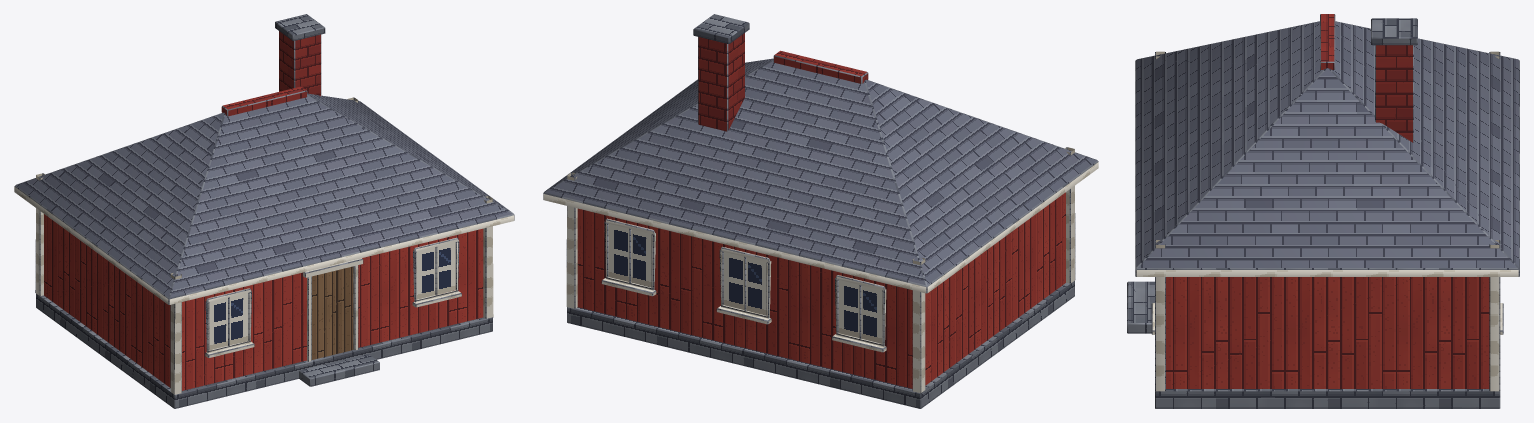
File: cottage_1.glb
3 views of the same model, side by side, from view 1: azimuth 30°, elevation 25°; view 2: azimuth 150°, elevation 25°; view 3: azimuth 270°, elevation 25° (orthographic). The views are drawn at different scales.
Visible parts, largest first — view 1: cottage_2; view 2: cottage_2; view 3: cottage_2.
Boxes of the visible parts, <box> form: cottage_2: <box>14,14,514,408</box>; cottage_2: <box>543,14,1098,408</box>; cottage_2: <box>1127,14,1519,408</box>.
Bounding box in the file's own units: 8.9 × 6.39 × 7.05.
8 materials, 8 textured.
